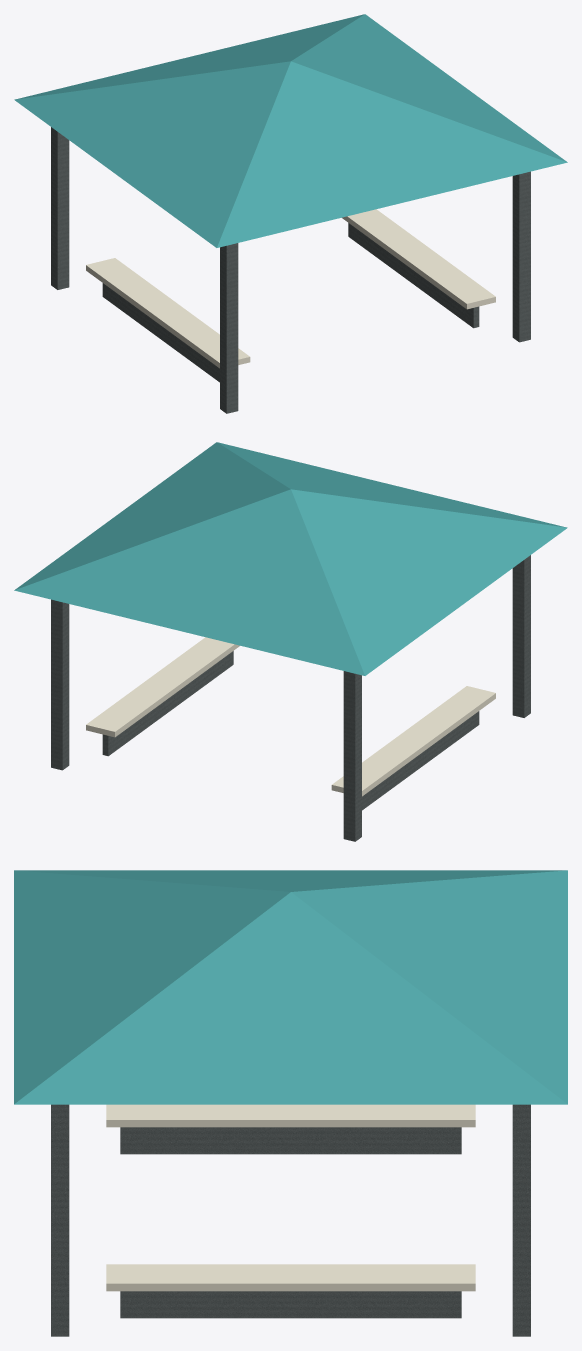
File: tw_river_pavilion.glb
The picture shows the model from 3 angles, top to bottom: view 1: azimuth 30°, elevation 25°; view 2: azimuth 150°, elevation 25°; view 3: azimuth 270°, elevation 25°; orthographic projection. The views are drawn at different scales.
Parts seen in each view (by area): view 1: FictionalShopAccent, GalvanizedMetal, PaintedCream; view 2: FictionalShopAccent, GalvanizedMetal, PaintedCream; view 3: FictionalShopAccent, GalvanizedMetal, PaintedCream.
Boxes of the visible parts, left/top/right/bottom form: FictionalShopAccent: left=14, top=14, right=567, bottom=247; GalvanizedMetal: left=51, top=127, right=530, bottom=413; PaintedCream: left=86, top=209, right=495, bottom=368; FictionalShopAccent: left=14, top=442, right=567, bottom=675; GalvanizedMetal: left=51, top=555, right=530, bottom=841; PaintedCream: left=86, top=637, right=495, bottom=796; FictionalShopAccent: left=14, top=870, right=567, bottom=1104; GalvanizedMetal: left=51, top=1104, right=530, bottom=1336; PaintedCream: left=106, top=1104, right=475, bottom=1291.
Bounding box in the file's own units: 6 × 4.1 × 6.
3 materials, 1 textured.
